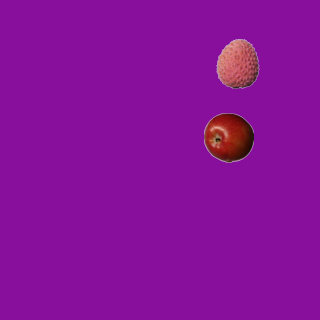Apple Braeburn: (203, 112, 253, 162)
Lychee: (212, 38, 262, 88)
